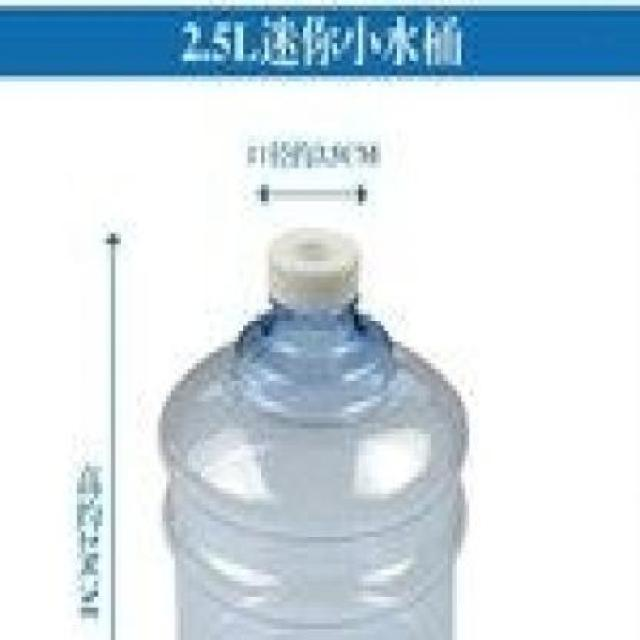coolerbottle: (149, 217, 478, 640)
